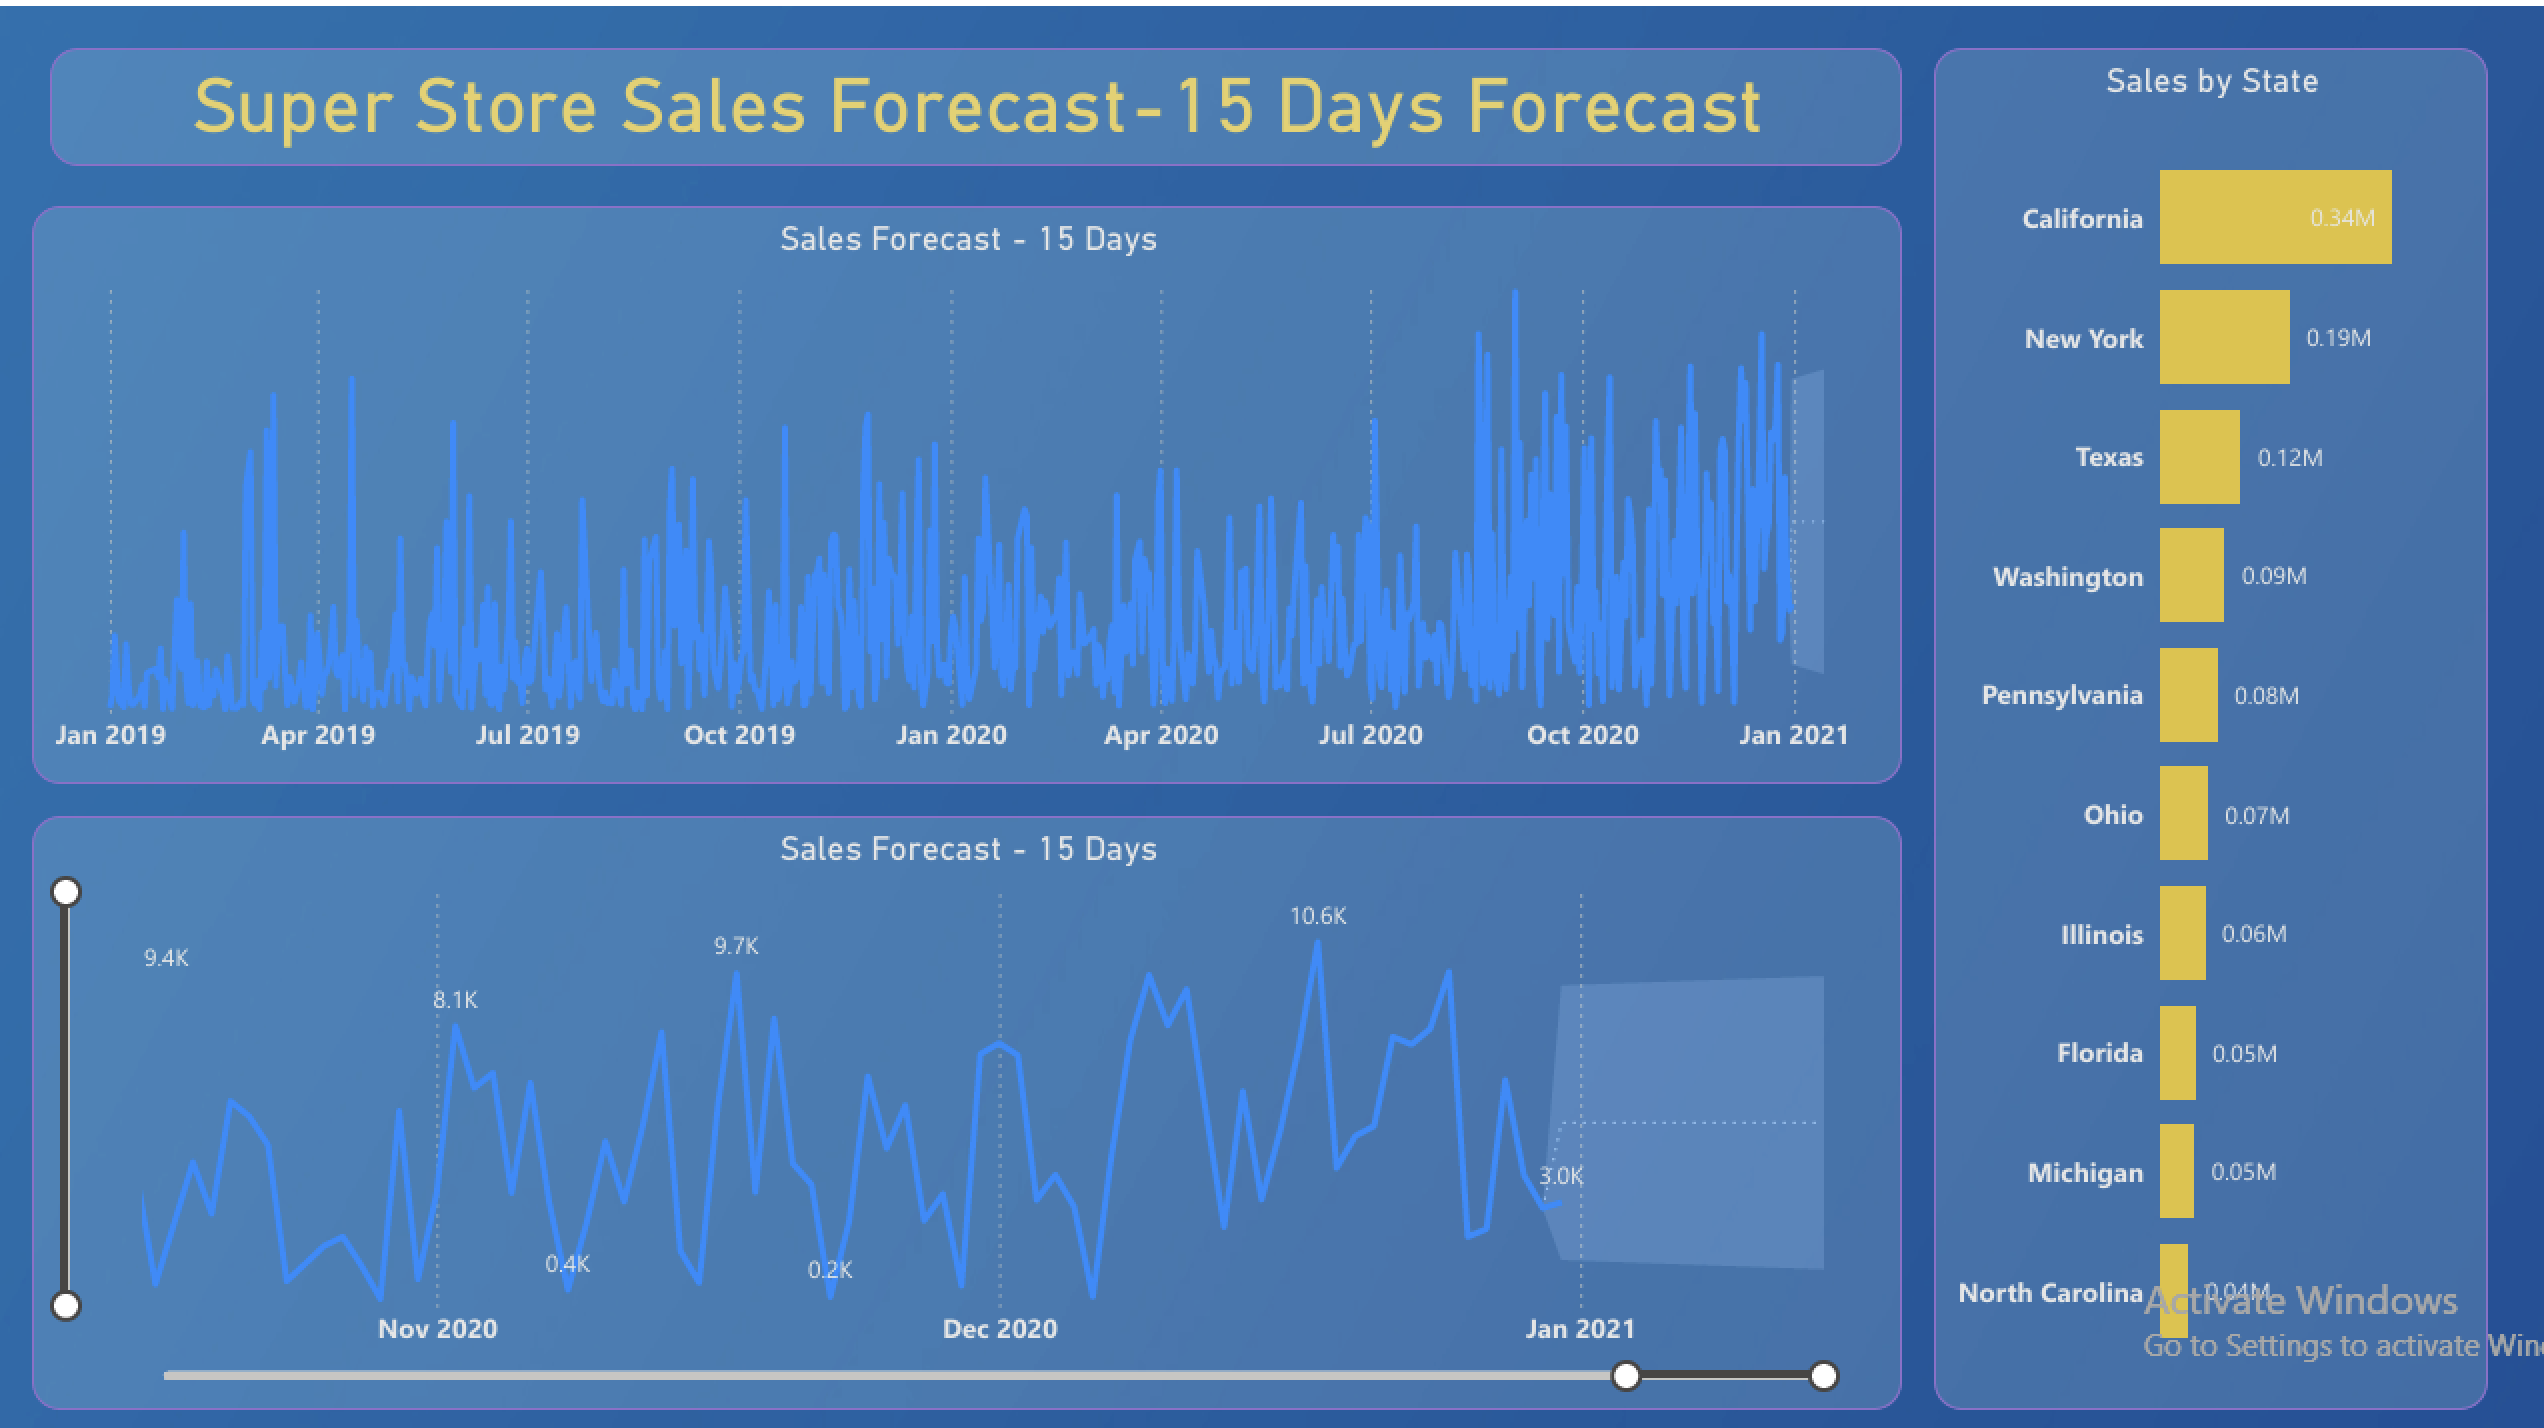

This screenshot's page, from the dashboard's own definition file:
{"tool":"powerbi","page":{"name":"Page 2","canvas":[1280,720],"ordinal":1},"visuals":[{"type":"lineChart","title":"Sales Forecast - 15 Days","fields":{"Y":["Sum(SuperStore_Sales_Dataset.Sales)"],"Category":["SuperStore_Sales_Dataset.Order Date"]},"box":[15,98.8,935,288.8],"z":0},{"type":"lineChart","title":"Sales Forecast - 15 Days","fields":{"Y":["Sum(SuperStore_Sales_Dataset.Sales)"],"Category":["SuperStore_Sales_Dataset.Order Date"]},"box":[15,403.8,935,297.5],"z":1000},{"type":"clusteredBarChart","title":"Sales by State","fields":{"Y":["Sum(SuperStore_Sales_Dataset.Sales)"],"Category":["SuperStore_Sales_Dataset.State"]},"box":[966.2,20,276.2,681.2],"z":2000},{"type":"textbox","title":"Super Store Sales Forecast-15 Days Forecast","box":[23.8,20,926.2,58.8],"z":2001}]}

Visuals, with their boxes in screenshot pixels (x1, y1, x2, y2), scaled from the page's 1280x720 canvas onto the 2544x1428 screenshot:
"Sales Forecast - 15 Days" lineChart: x1=30, y1=196, x2=1888, y2=769
"Sales Forecast - 15 Days" lineChart: x1=30, y1=801, x2=1888, y2=1391
"Sales by State" clusteredBarChart: x1=1920, y1=40, x2=2469, y2=1391
"Super Store Sales Forecast-15 Days Forecast" textbox: x1=47, y1=40, x2=1888, y2=156
